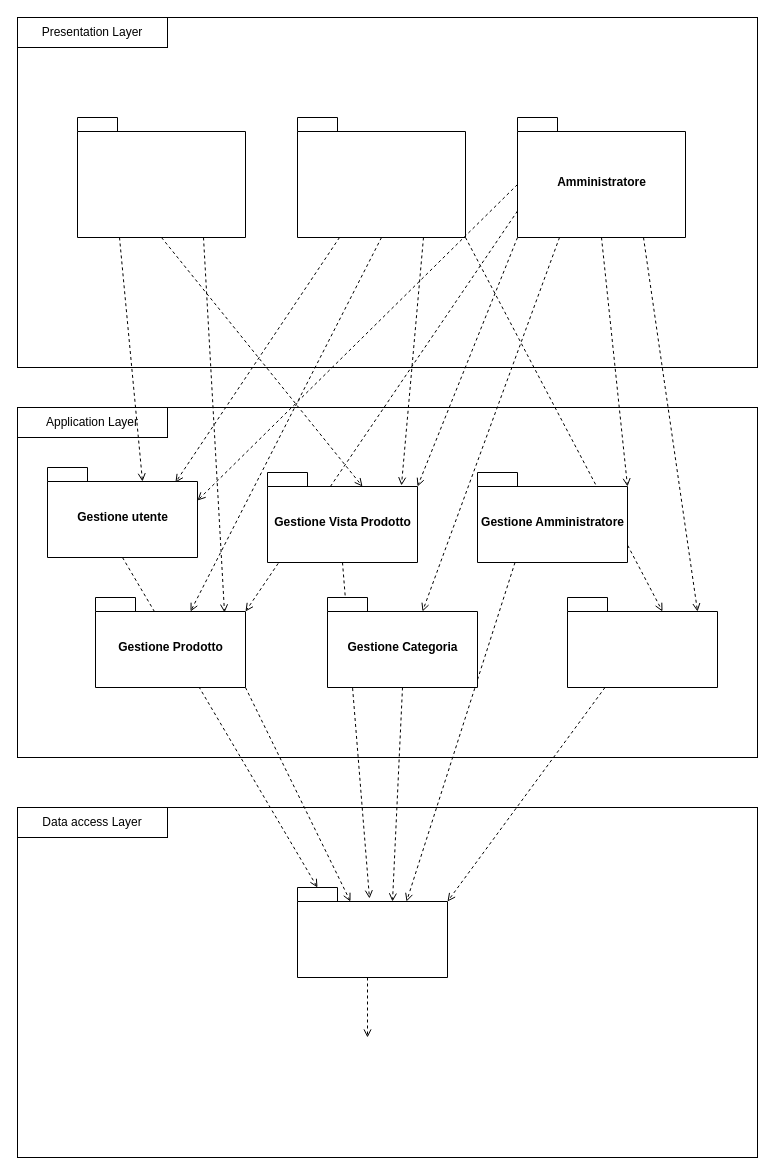
This 775x1175 diagram has some shape labels left out. The shapes that lost their labels are listed below. From the top down, each one's centre as x and y in pixels, then its label:
point (161, 177): Utente non registrato
point (381, 177): Utente registrato
point (642, 642): Gestione Ordini
point (372, 932): Gestione Database
